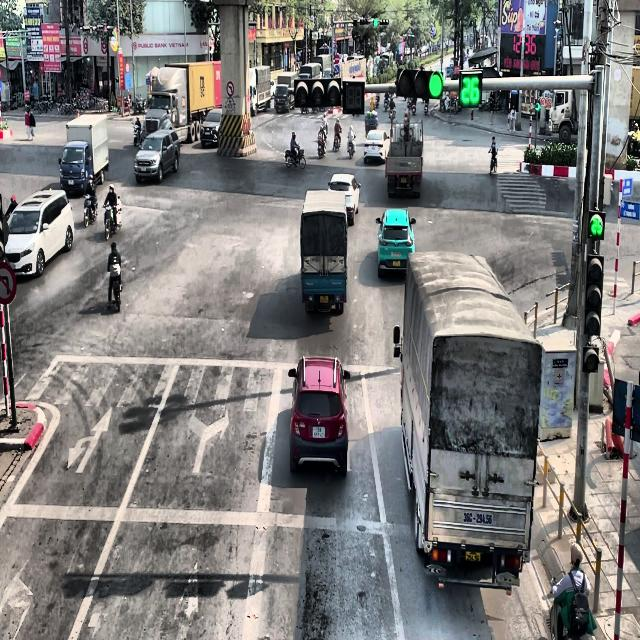lisence_plate: (462, 509, 493, 526), (463, 548, 482, 564), (312, 424, 326, 439), (318, 294, 330, 306), (392, 260, 402, 268), (399, 161, 410, 167), (400, 177, 407, 183), (371, 146, 376, 150)
